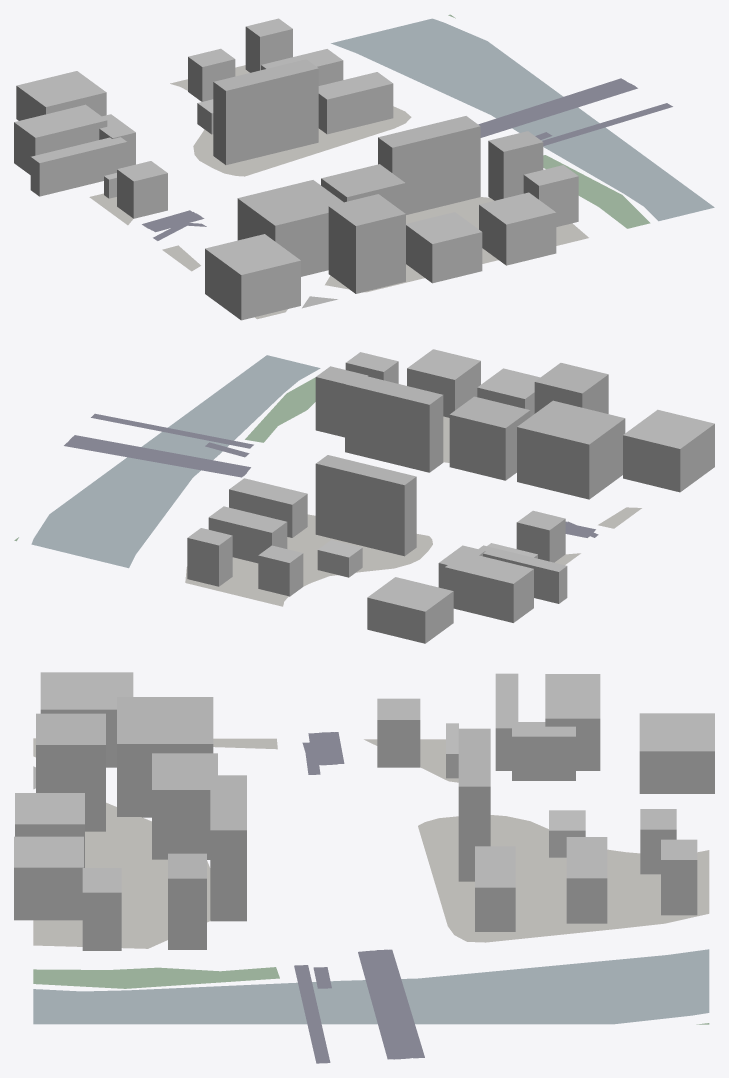
The model's file is 123_89_mid.glb.
3 renders of one model, top to bottom at view 1: azimuth 30°, elevation 25°; view 2: azimuth 150°, elevation 25°; view 3: azimuth 270°, elevation 25°, orthographic. The views are drawn at different scales.
Size of the model in its own units: 616 by 78.09 by 518.
